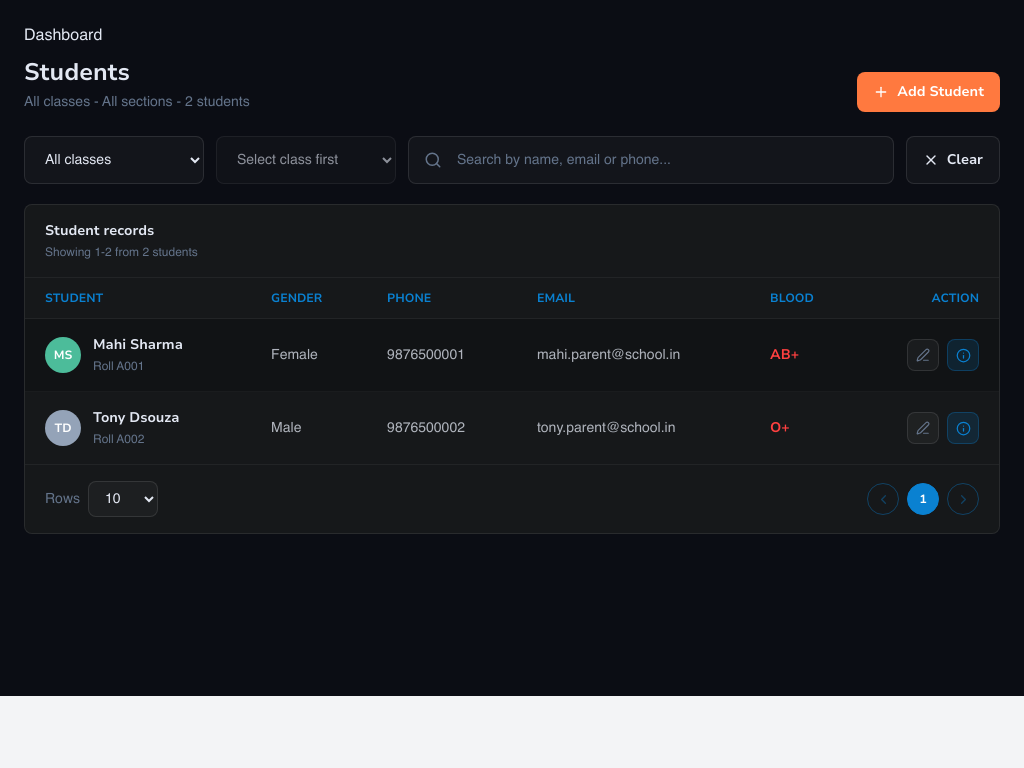
Test: Studentlist Component › opens the detail sidebar from the info action
Check: the text "Mahi Sharma" is shown, box [93,335,183,355]
Click the button named "info mahi sharma": (963, 355) [947,339,979,371]
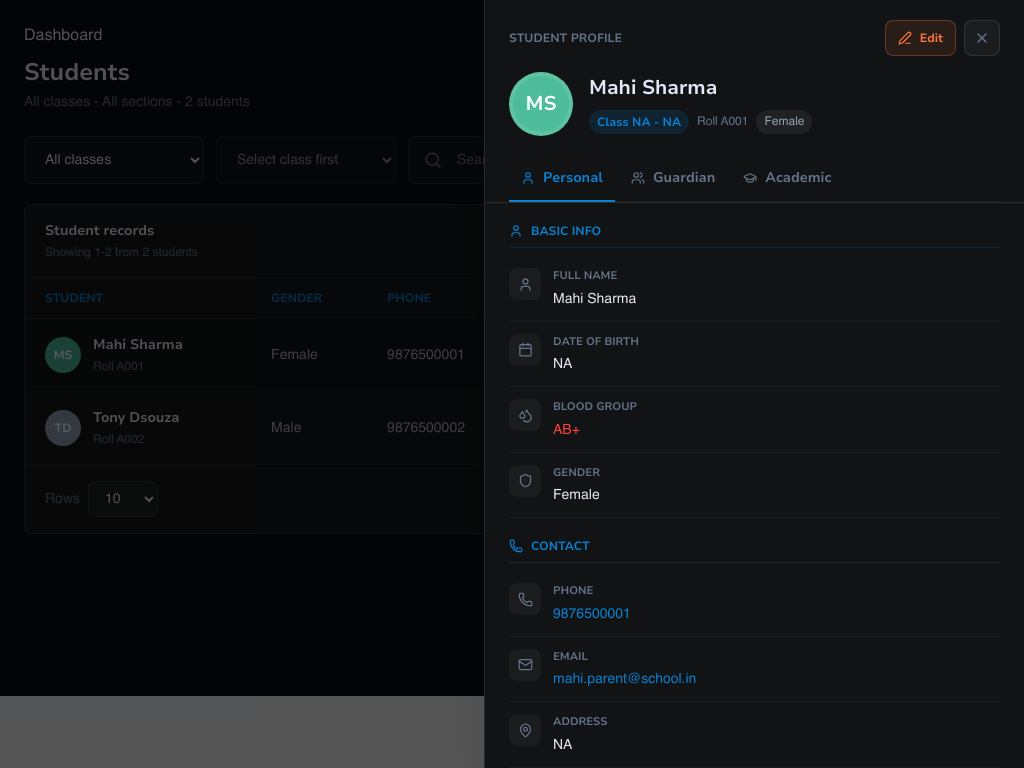
Check: the element with test id "student-detail-sidebar" is shown, box [484,0,1023,767]
Check: the text "Student Profile" is shown, box [509,30,622,46]
Check: the text "Class NA - NA" is shown, box [589,110,689,134]
